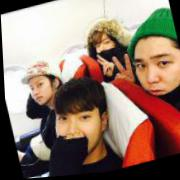NONE: (51, 102, 107, 161), (29, 76, 55, 108), (93, 36, 119, 67)
WRONG: (131, 41, 180, 110)
